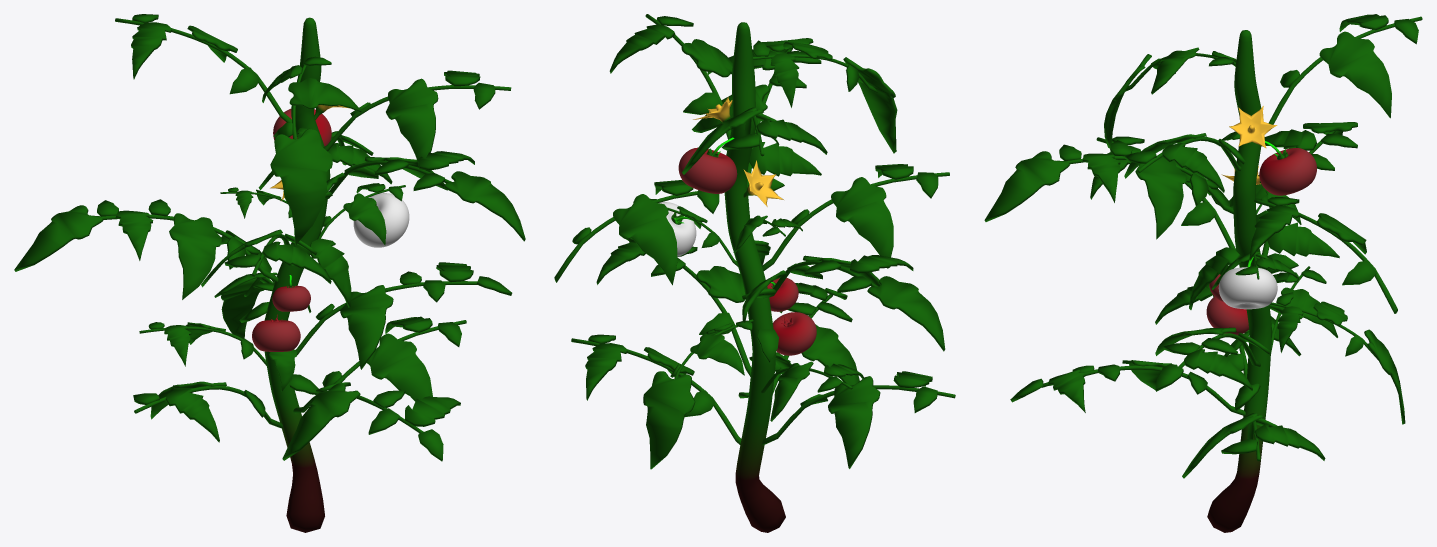
Rendered from Paradajz_BiljkaTextura3.fbx.
3 views of the same model, side by side, from view 1: azimuth 30°, elevation 25°; view 2: azimuth 150°, elevation 25°; view 3: azimuth 270°, elevation 25° (orthographic).
Visible parts, largest first — view 1: Cube.040; view 2: Cube.040; view 3: Cube.040.
Part boxes in pixels (<box>): Cube.040: <box>14,14,525,532</box>; Cube.040: <box>554,14,955,532</box>; Cube.040: <box>984,14,1422,532</box>.
Bounding box in the file's own units: 943 × 1109 × 869.
